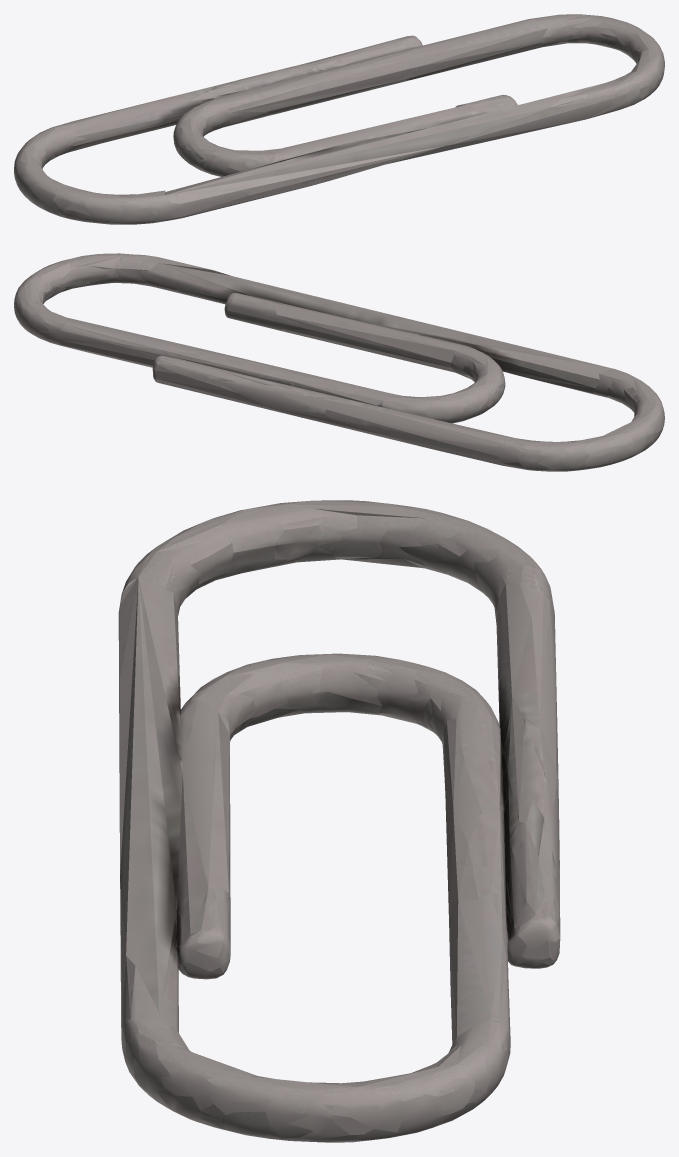
Rendered from paper-clip.glb.
3 renders of one model, top to bottom at view 1: azimuth 30°, elevation 25°; view 2: azimuth 150°, elevation 25°; view 3: azimuth 270°, elevation 25°, orthographic. The views are drawn at different scales.
Parts seen in each view (by area): view 1: output_unwrapped; view 2: output_unwrapped; view 3: output_unwrapped.
Boxes of the visible parts, bbox=[...] form: output_unwrapped: bbox=[14, 14, 664, 224]; output_unwrapped: bbox=[14, 253, 664, 471]; output_unwrapped: bbox=[118, 500, 560, 1142].
Size of the model in its own units: 1.9 by 0.0765 by 0.5864.
Materials: 1 (1 with a texture image).
